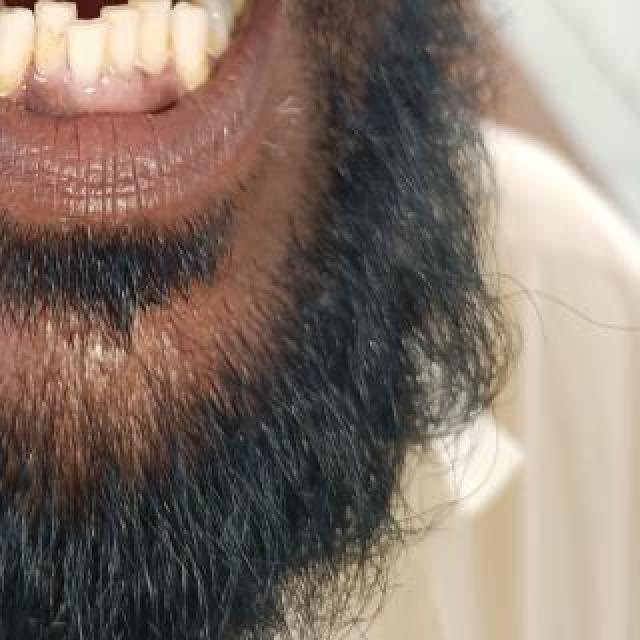maligned: (28, 0, 82, 88), (168, 0, 212, 98), (99, 0, 145, 86), (67, 10, 111, 94), (132, 0, 176, 80), (0, 2, 32, 96)
plaque: (131, 41, 171, 87), (188, 40, 224, 86)
stains: (29, 7, 71, 79)
